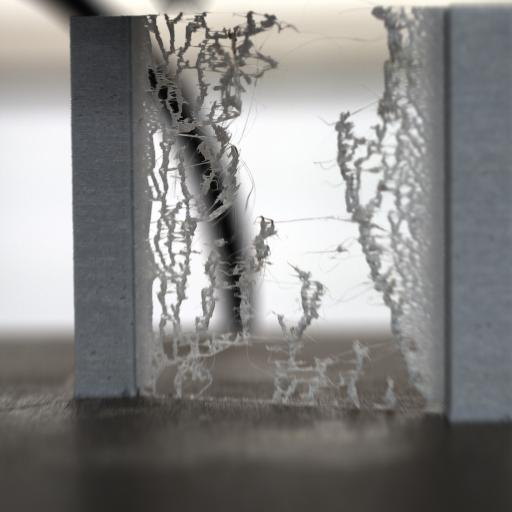stringing: (145, 15, 281, 403), (331, 17, 444, 411), (270, 272, 341, 402)
